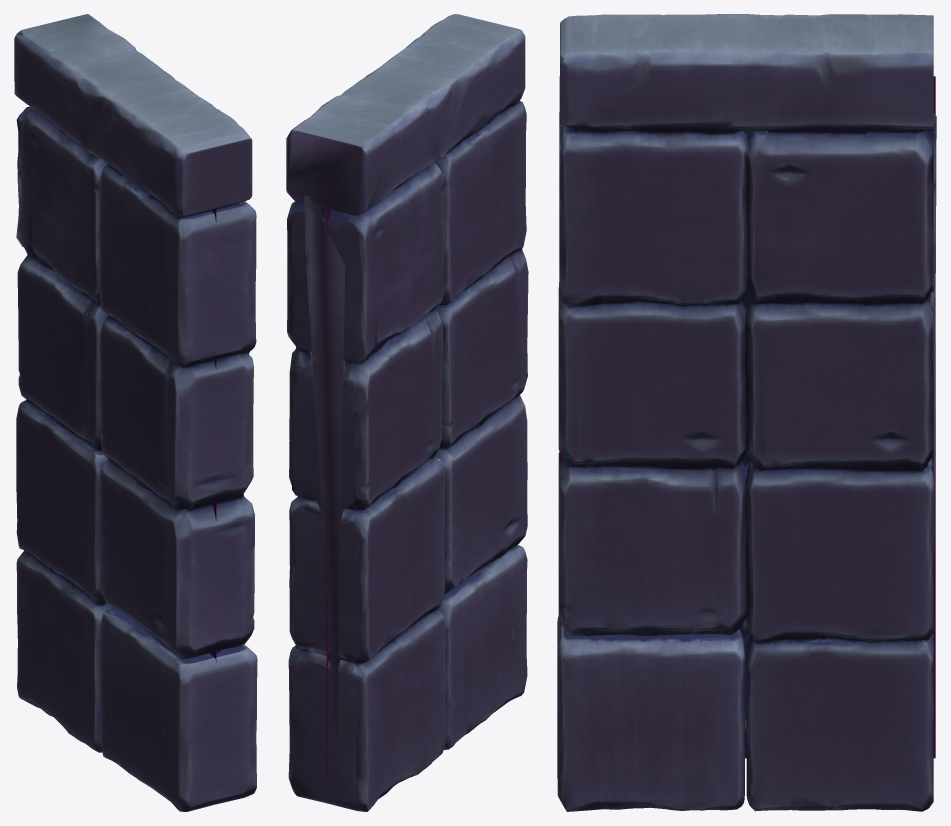
Rendered from wallSegment.glb.
3 renders of one model, left to right at view 1: azimuth 30°, elevation 25°; view 2: azimuth 150°, elevation 25°; view 3: azimuth 270°, elevation 25°, orthographic. The views are drawn at different scales.
Parts seen in each view (by area): view 1: Wall_01; view 2: Wall_01, Plane; view 3: Wall_01, Plane.
Boxes of the visible parts, x1=… form: Wall_01: x1=14, y1=14, x2=257, y2=811; Wall_01: x1=286, y1=14, x2=528, y2=811; Plane: x1=326, y1=177, x2=330, y2=777; Wall_01: x1=557, y1=14, x2=936, y2=811; Plane: x1=559, y1=76, x2=935, y2=758.
Size of the model in its own units: 0.0829 by 0.6376 by 0.2886.
2 materials, 1 textured.
